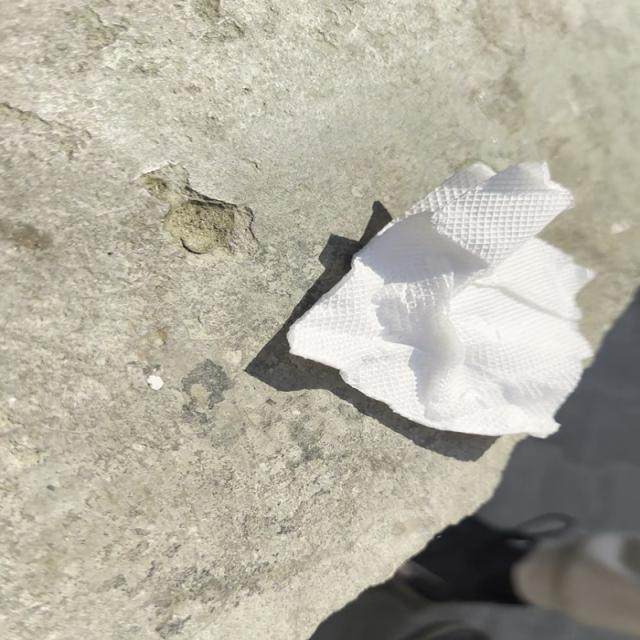tissue: (292, 160, 610, 442)
